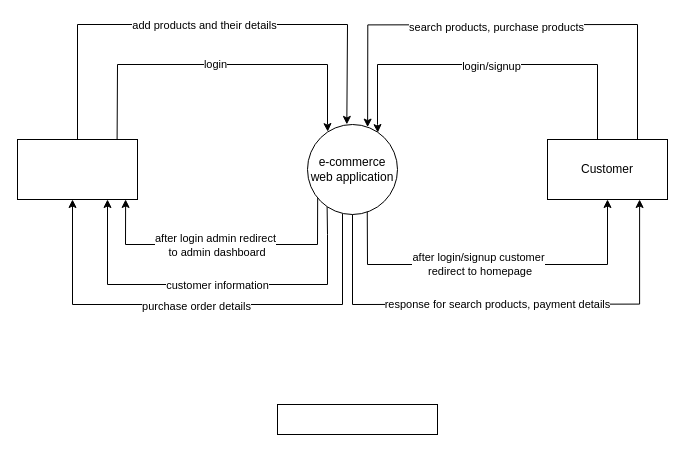
This 685x452 diagram has some shape labels left out. Each missing label, with the box of its shape:
0-level data flow diagram: (276, 404, 438, 434)
Admin: (16, 138, 138, 200)
